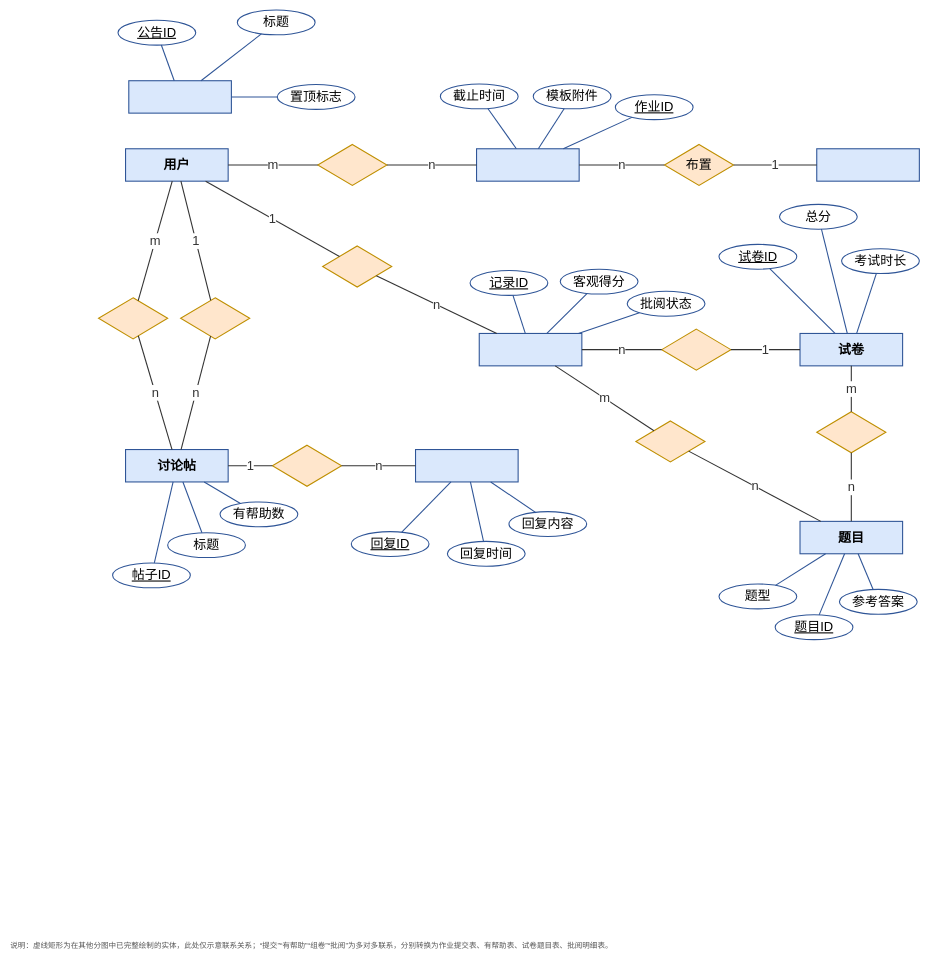
This 929x978 diagram has some shape labels left out. The box of each missing label's shape, as (x1, y1, x2, y2) in pixels:
作业: (476, 148, 579, 181)
参加: (322, 245, 392, 287)
发帖: (180, 297, 250, 339)
回复: (272, 444, 342, 487)
对应: (661, 328, 731, 370)
批阅: (635, 420, 705, 462)
提交: (317, 144, 387, 186)
有帮助: (98, 297, 168, 339)
系统公告: (128, 80, 232, 113)
组卷: (816, 411, 886, 453)
考试记录: (478, 333, 582, 366)
讨论回复: (415, 449, 518, 482)
课程: (816, 148, 920, 181)
